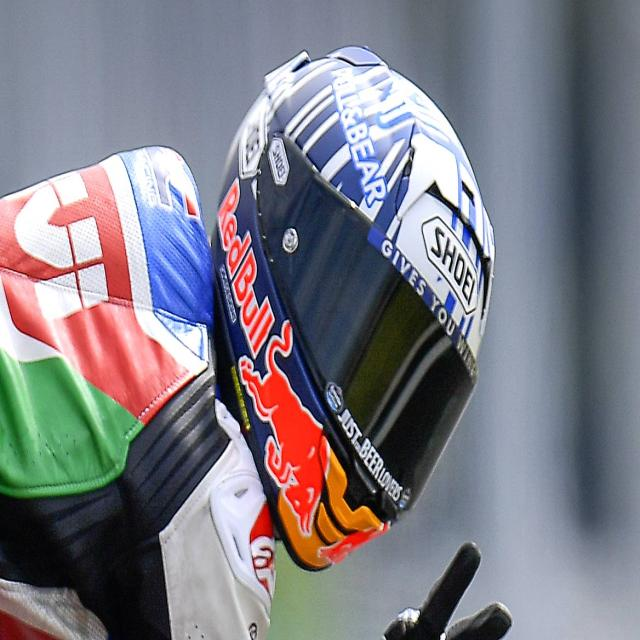Helm: (212, 31, 496, 574)
